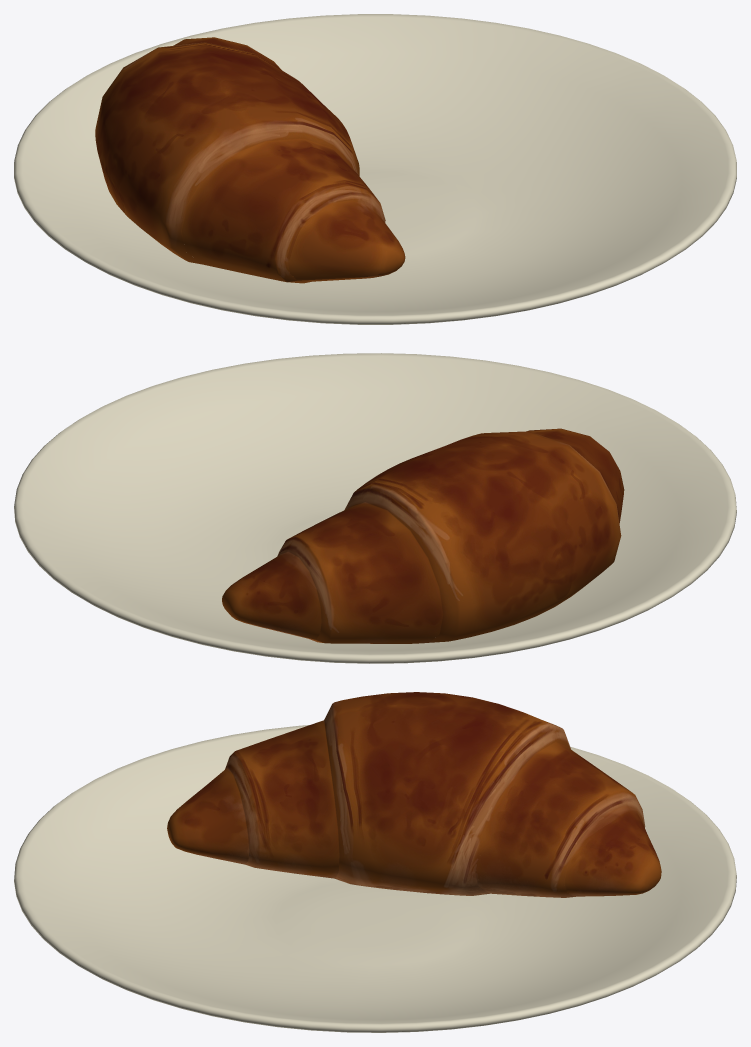
The model's file is croissant_plate.glb.
The picture shows the model from 3 angles, top to bottom: view 1: azimuth 30°, elevation 25°; view 2: azimuth 150°, elevation 25°; view 3: azimuth 270°, elevation 25°; orthographic projection.
Visible parts, largest first — view 1: croissant_plate, Croissant_low; view 2: croissant_plate, Croissant_low; view 3: croissant_plate, Croissant_low.
Boxes of the visible parts, x1,y1,x2,y2 form: croissant_plate: [14, 14, 736, 324]; Croissant_low: [95, 37, 405, 283]; croissant_plate: [14, 353, 736, 663]; Croissant_low: [222, 428, 624, 643]; croissant_plate: [14, 725, 736, 1032]; Croissant_low: [167, 692, 661, 897].
Bounding box in the file's own units: 0.2494 × 0.0612 × 0.2494.
Materials: 2 (1 with a texture image).
